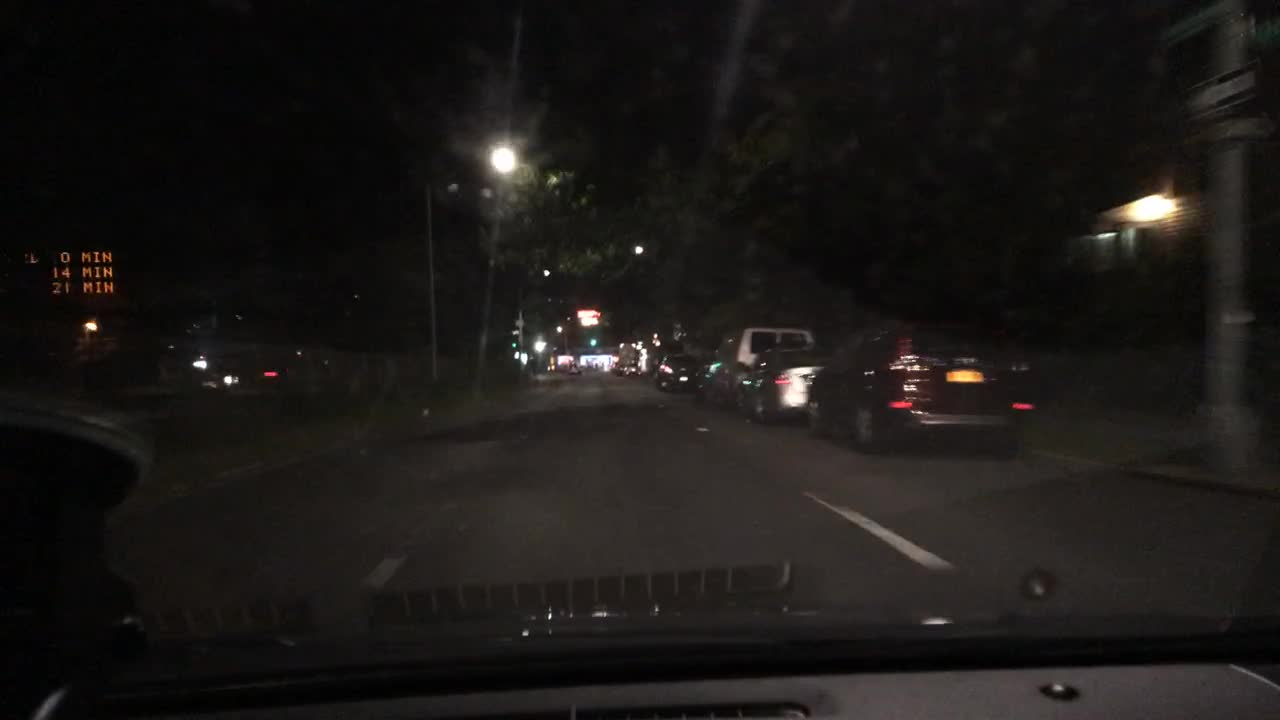car: (806, 318, 1036, 457), (699, 329, 814, 407), (742, 348, 830, 419), (655, 356, 697, 391), (625, 362, 641, 378), (566, 361, 583, 374), (615, 365, 626, 376), (609, 361, 619, 373)
traffic light: (587, 339, 598, 345)
traffic sign: (1173, 65, 1265, 121), (1161, 9, 1215, 44), (1254, 13, 1279, 49)
